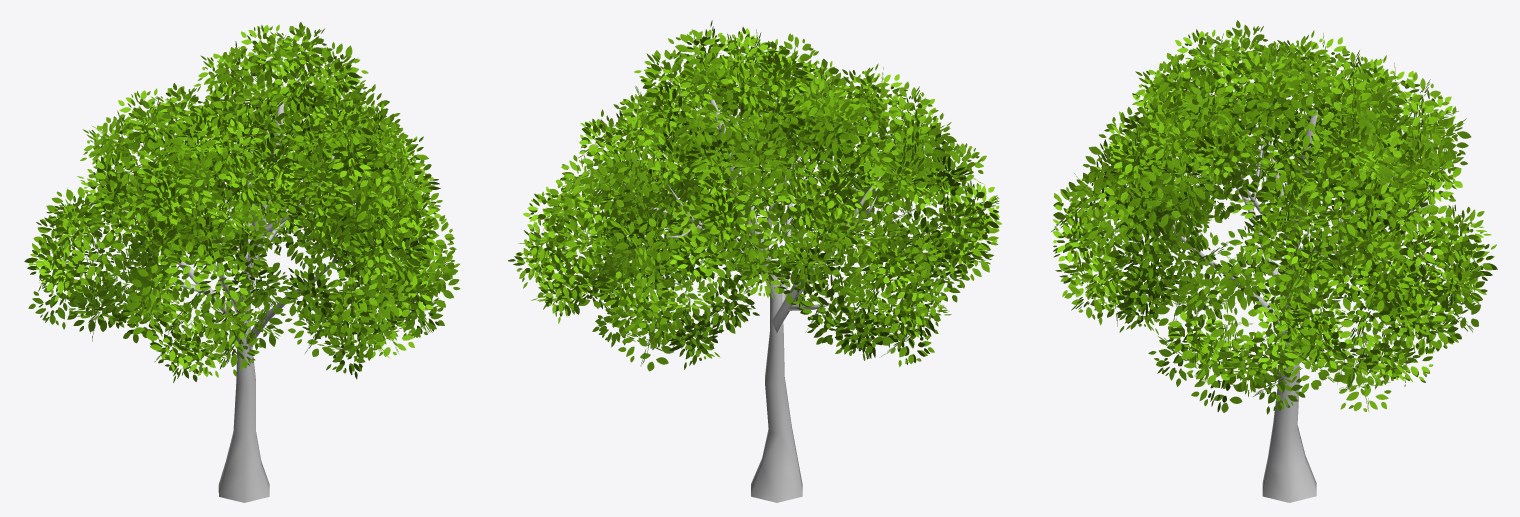
The model's file is FSS_tree_001.FBX.
The picture shows the model from 3 angles, left to right: view 1: azimuth 30°, elevation 25°; view 2: azimuth 150°, elevation 25°; view 3: azimuth 270°, elevation 25°; orthographic projection. The views are drawn at different scales.
Visible parts, largest first — view 1: leaves_001, trunk_001; view 2: leaves_001, trunk_001; view 3: leaves_001, trunk_001.
Boxes of the visible parts, x1=… form: leaves_001: x1=24, y1=22, x2=460, y2=382; trunk_001: x1=93, y1=95, x2=343, y2=502; leaves_001: x1=508, y1=20, x2=1001, y2=371; trunk_001: x1=622, y1=99, x2=880, y2=502; leaves_001: x1=1051, y1=20, x2=1497, y2=414; trunk_001: x1=1166, y1=109, x2=1434, y2=502.
Size of the model in its own units: 342 by 316 by 360.
